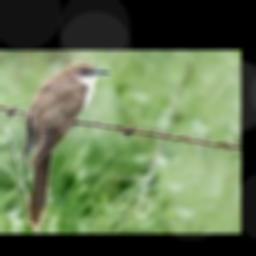Cuckoo: (23, 63, 112, 229)
